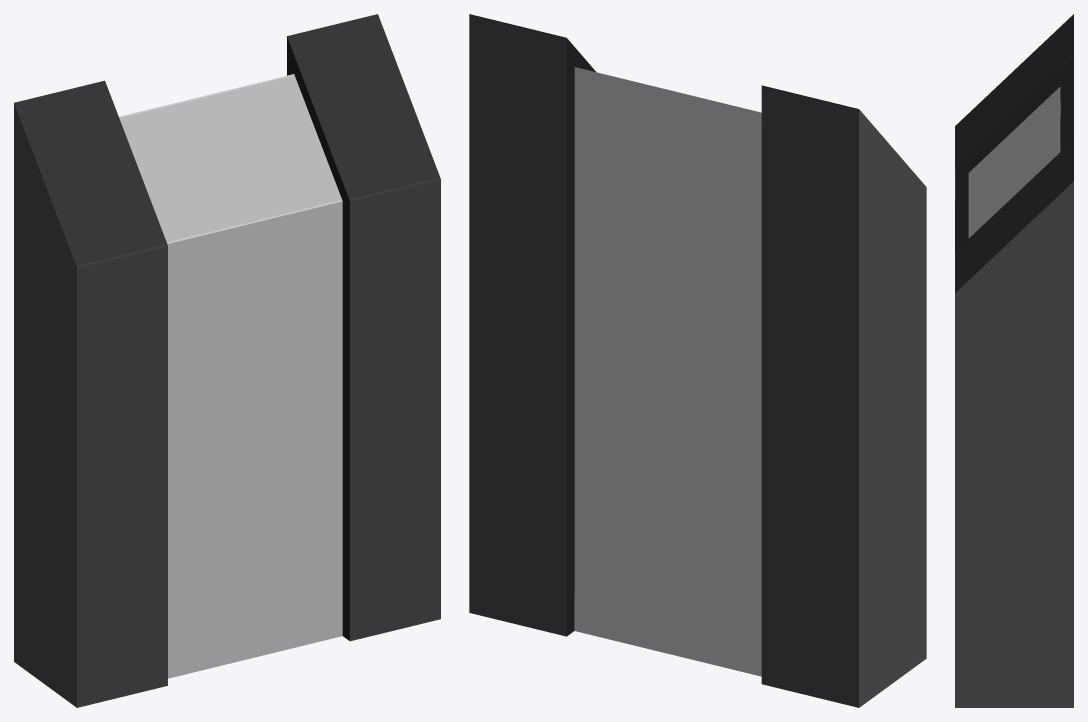
Rendered from Door.fbx.
3 renders of one model, left to right at view 1: azimuth 30°, elevation 25°; view 2: azimuth 150°, elevation 25°; view 3: azimuth 270°, elevation 25°, orthographic. The views are drawn at different scales.
Visible parts, largest first — view 1: Cube; view 2: Cube; view 3: Cube.
Part boxes in pixels (x1,y1,x2,y2): Cube: [14, 14, 440, 707]; Cube: [469, 14, 926, 707]; Cube: [955, 14, 1073, 707].
Size of the model in its own units: 160 by 235 by 48.
